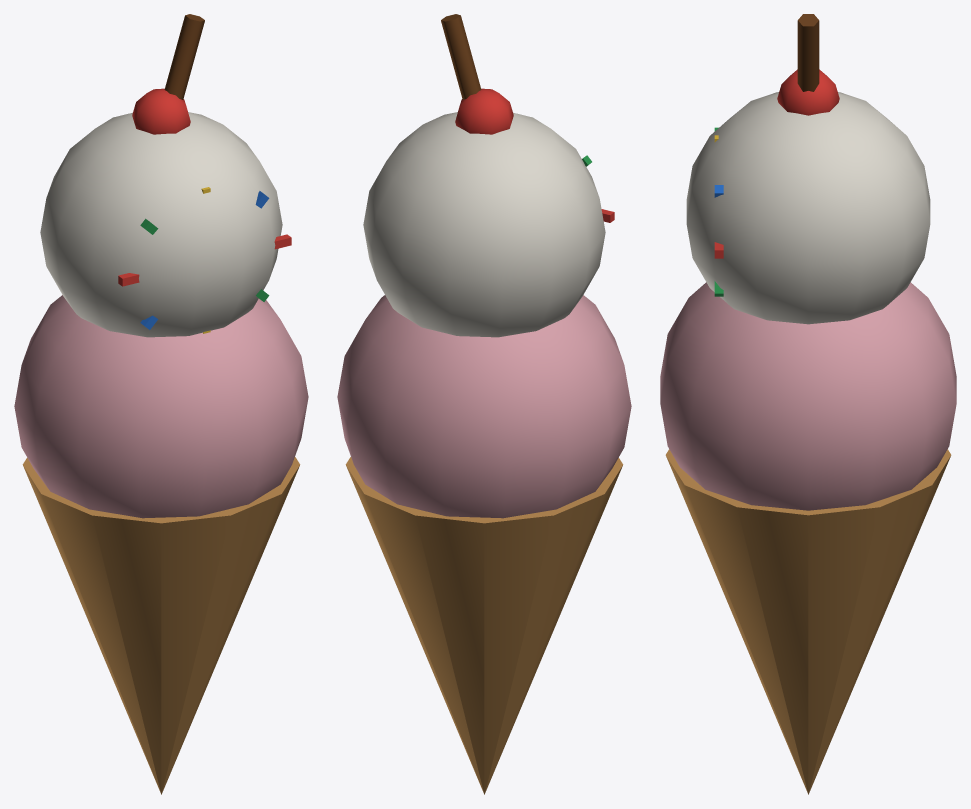
The model's file is icecream.glb.
The picture shows the model from 3 angles, left to right: view 1: azimuth 30°, elevation 25°; view 2: azimuth 150°, elevation 25°; view 3: azimuth 270°, elevation 25°; orthographic projection. The views are drawn at different scales.
Visible parts, largest first — view 1: icecream; view 2: icecream; view 3: icecream.
Part boxes in pixels (box(x1,y1,x2,y2)): icecream: box(14, 14, 308, 794); icecream: box(337, 14, 631, 794); icecream: box(660, 14, 956, 794).
Bounding box in the file's own units: 0.34 × 0.9808 × 0.3315.
